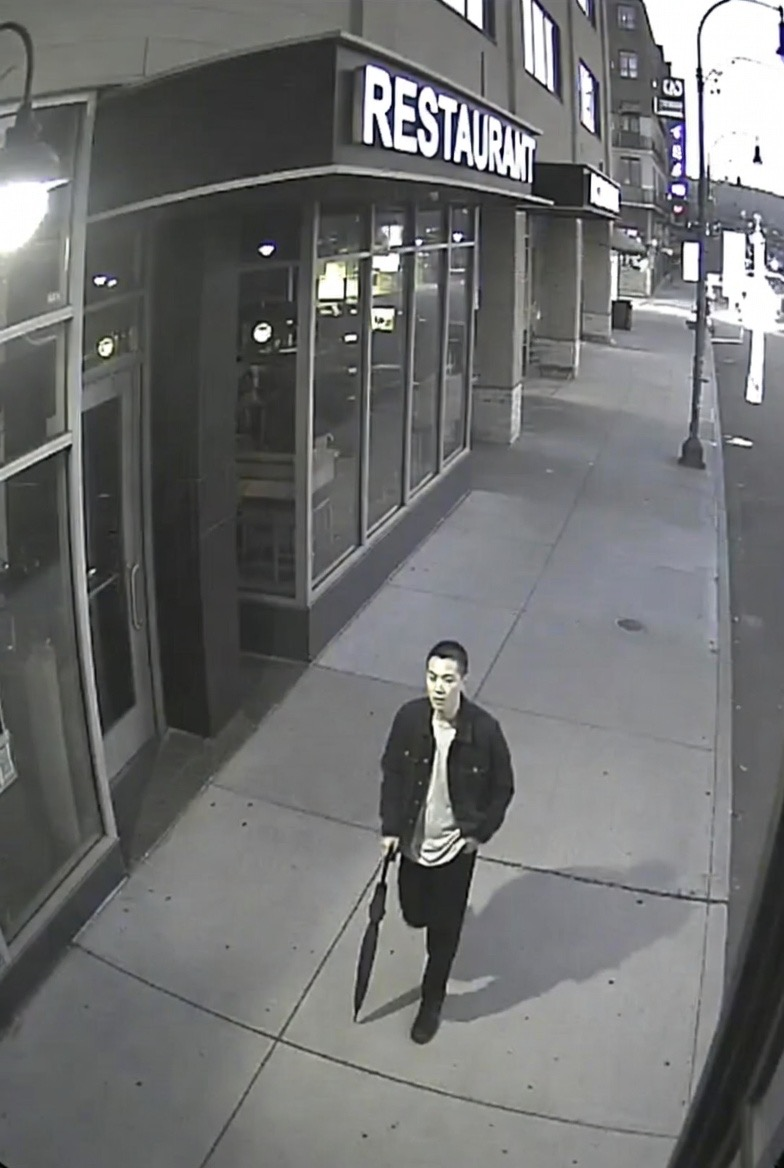person: (377, 640, 515, 1046)
umbrella: (353, 845, 398, 1021)
